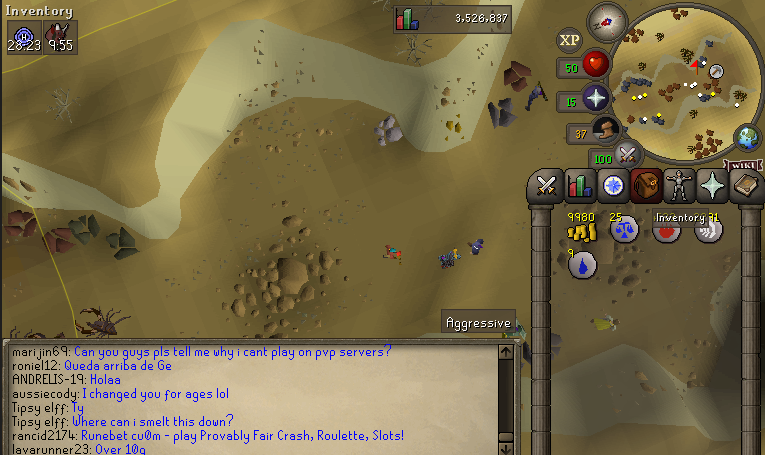depleted: (487, 93, 519, 129)
iron: (500, 54, 537, 96), (37, 223, 75, 257), (3, 206, 39, 240)
